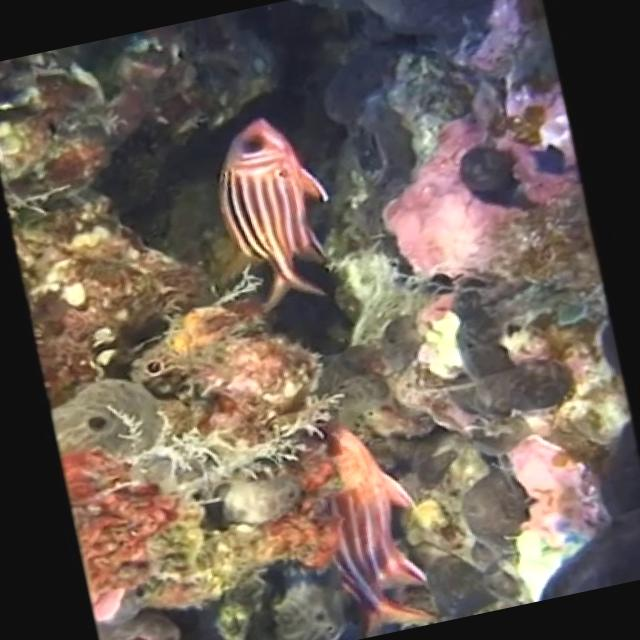Asker Baligi: (198, 104, 352, 318)
